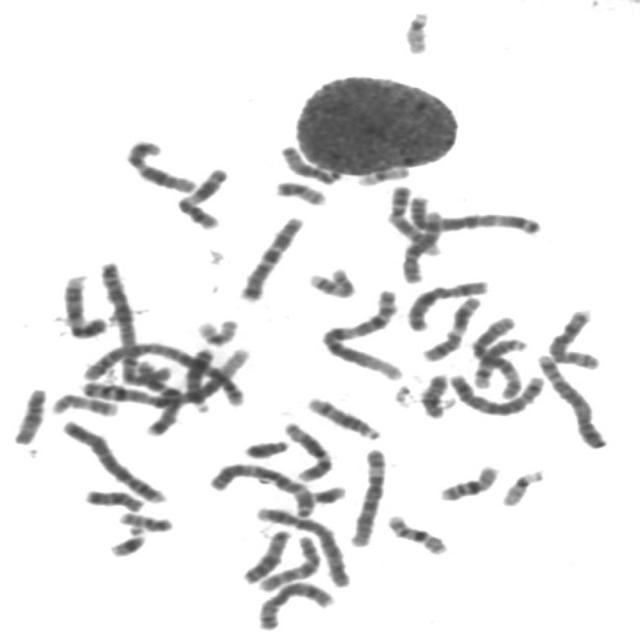A1: (78, 349, 271, 407), (314, 285, 408, 382)
A2: (74, 338, 252, 409), (96, 257, 164, 389)
A3: (204, 458, 318, 519), (402, 196, 544, 237)
B4: (56, 415, 170, 506), (251, 503, 355, 590)
B5: (532, 348, 612, 451), (444, 368, 548, 418)
C10: (252, 530, 324, 594), (396, 205, 446, 284)
C11: (417, 291, 484, 364), (172, 163, 232, 231)
C12: (120, 135, 199, 195), (279, 417, 337, 483)
C6: (467, 311, 524, 400), (344, 444, 391, 548)
C7: (233, 211, 307, 303), (131, 356, 185, 436)
C8: (251, 577, 338, 632), (542, 304, 604, 371)
C9: (382, 181, 444, 258), (56, 270, 110, 340)
D13: (237, 526, 295, 586), (180, 344, 219, 414)
D14: (301, 392, 384, 441), (469, 334, 531, 390)
D15: (276, 140, 346, 187), (7, 383, 50, 446)
E16: (382, 509, 452, 557), (433, 460, 502, 503)
E17: (45, 388, 120, 418), (303, 262, 359, 300)
E18: (78, 484, 146, 513), (416, 369, 452, 420)
F19: (190, 314, 242, 347), (351, 161, 412, 187)
F20: (270, 176, 330, 208), (114, 506, 176, 534)
G21: (104, 526, 148, 558), (306, 481, 349, 506)
G22: (496, 465, 548, 508), (399, 6, 433, 56)
X: (403, 275, 492, 333)
Y: (239, 435, 292, 460)
